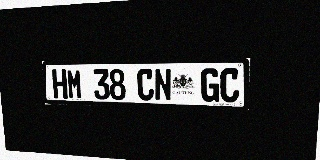3: (93, 69, 110, 100)
8: (109, 69, 126, 100)
C: (220, 68, 240, 103), (137, 69, 154, 101)
G: (201, 68, 220, 102)
H: (52, 69, 68, 99)
M: (67, 69, 83, 99)
N: (154, 68, 172, 101)
